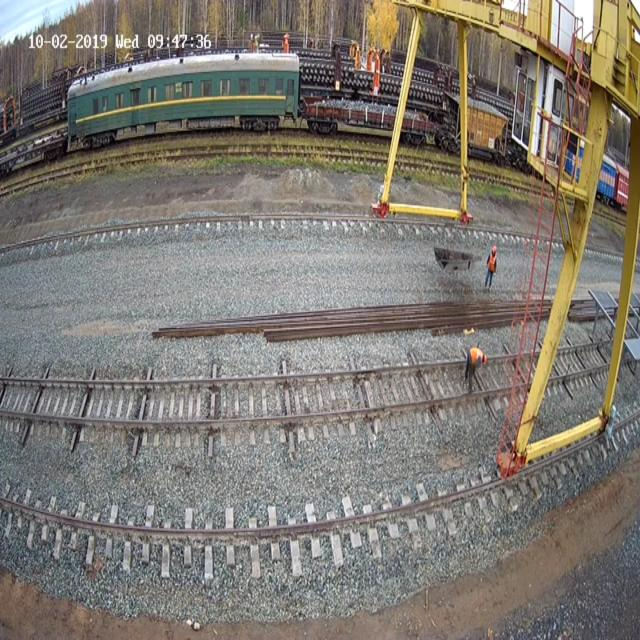Helmet: (491, 244, 497, 255)
Person: (464, 346, 488, 393), (485, 244, 497, 292)
